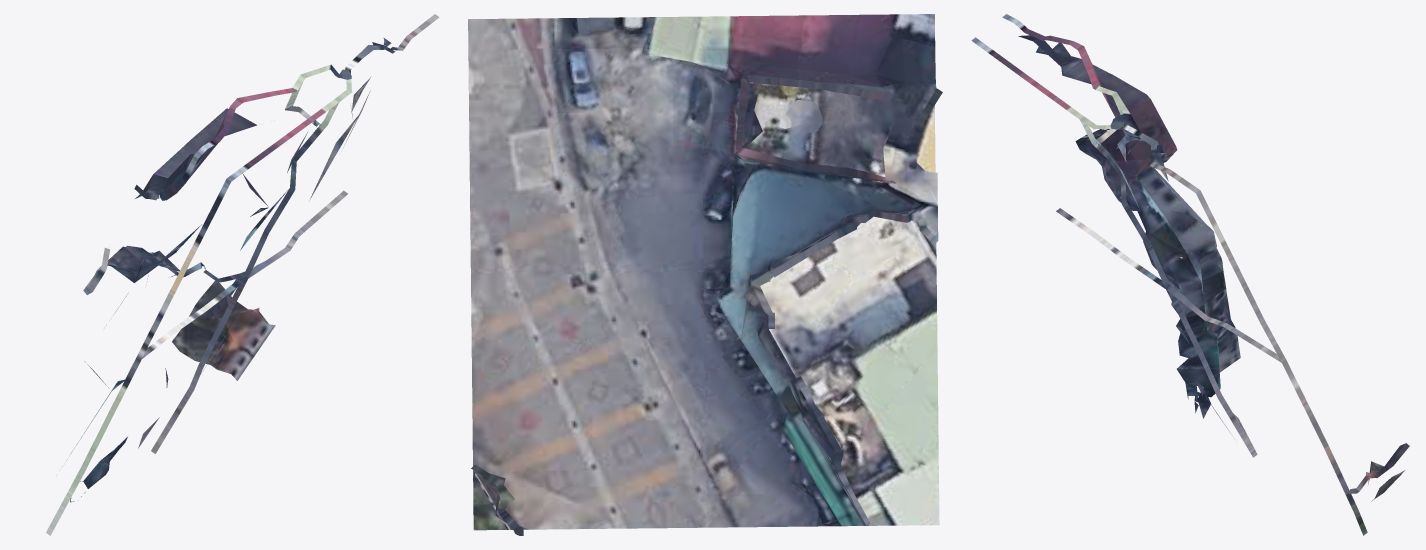
3 renders of one model, left to right at view 1: azimuth 30°, elevation 25°; view 2: azimuth 150°, elevation 25°; view 3: azimuth 270°, elevation 25°, orthographic. The views are drawn at different scales.
Size of the model in its own units: 38.18 by 36.77 by 35.75.
1 material, 1 textured.
